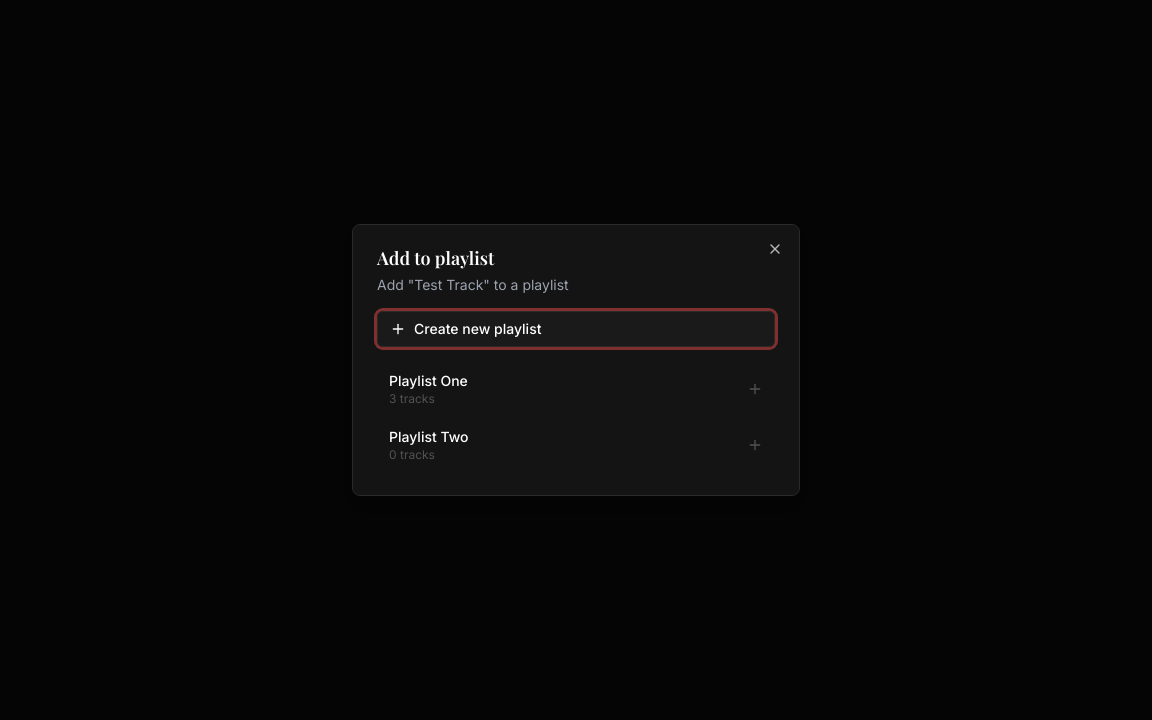
Test: AddToPlaylistDialog › shows cancel button in create form that returns to list
Click the button "Create new playlist" at (478, 328), box top-left (377, 311), bottom-right (775, 347)
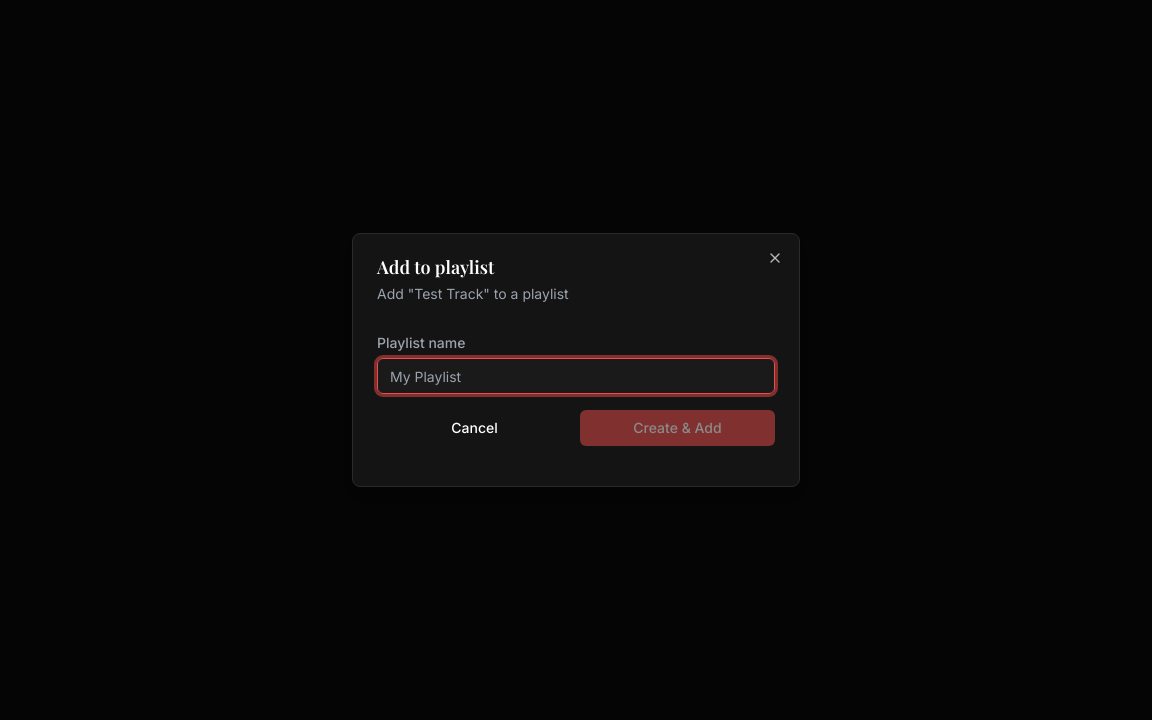
Expected: the field labelled "Playlist name" is shown, top-left (377, 358), bottom-right (775, 394)
Click the button "Cancel" at (474, 428), box top-left (377, 410), bottom-right (572, 446)
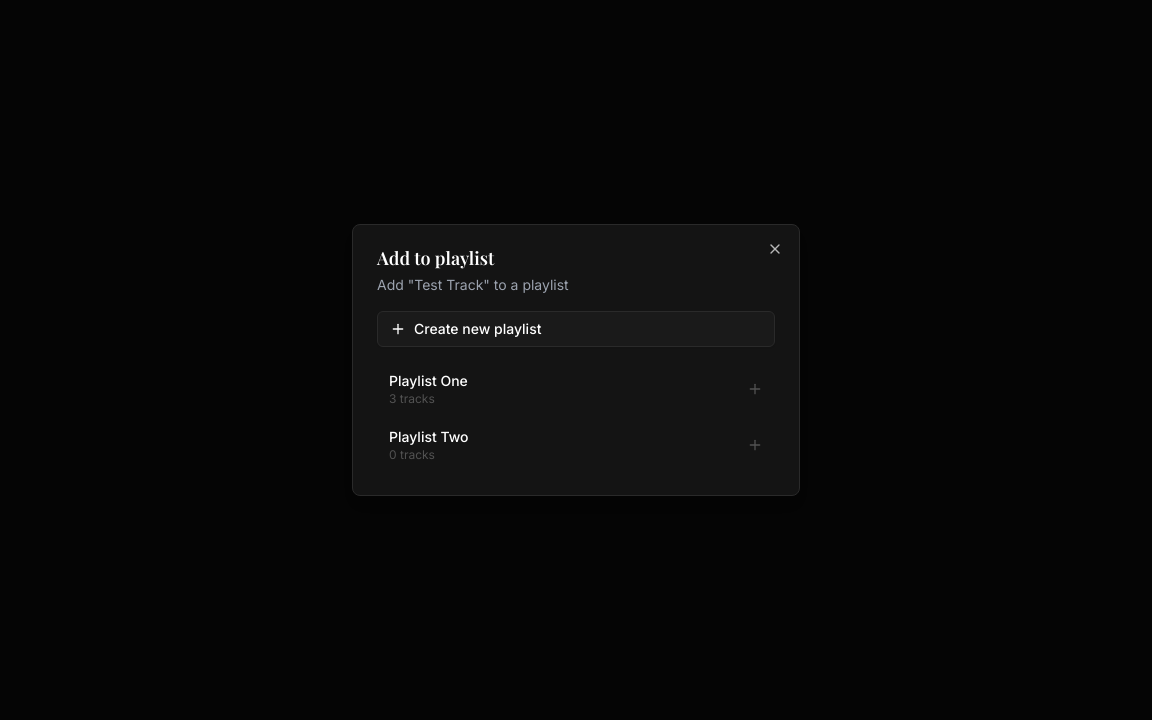
Expected: the button "Create new playlist" is shown, top-left (377, 311), bottom-right (775, 347)
